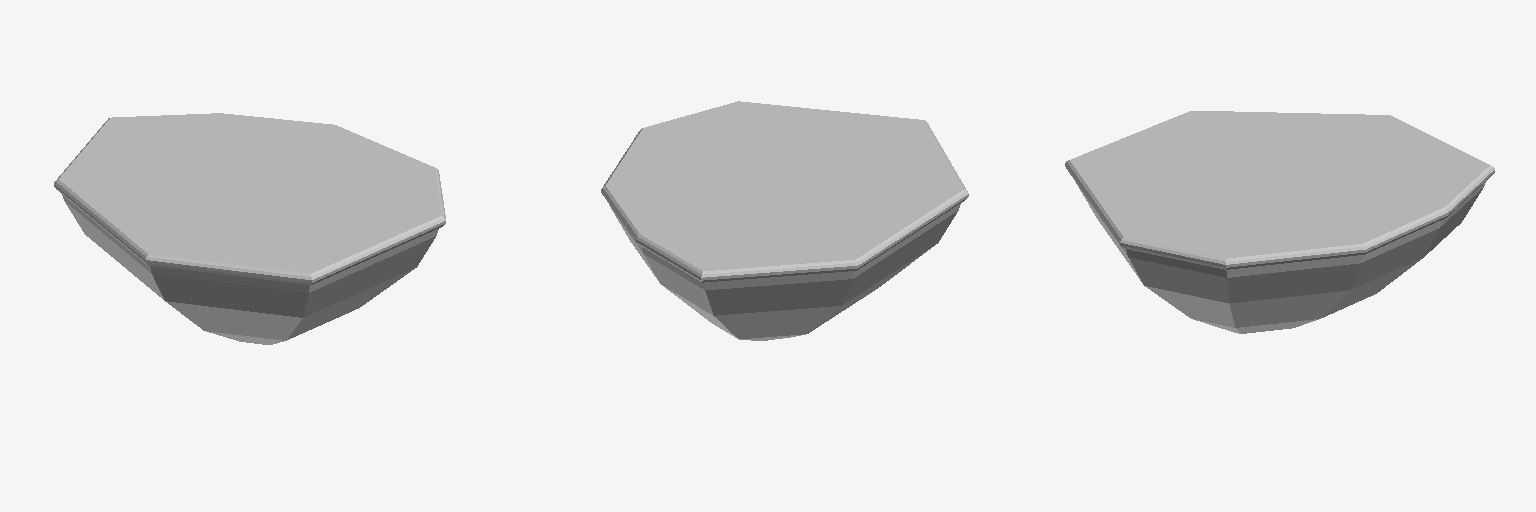
File: islando3.obj
3 renders of one model, left to right at view 1: azimuth 30°, elevation 25°; view 2: azimuth 150°, elevation 25°; view 3: azimuth 270°, elevation 25°, orthographic.
Visible parts, largest first — view 1: polySurface1; view 2: polySurface1; view 3: polySurface1.
Part boxes in pixels (x1,y1,x2,y2): polySurface1: (54,113,445,344); polySurface1: (601,101,968,340); polySurface1: (1065,111,1494,333).
Bounding box in the file's own units: 171 × 74.69 × 204.